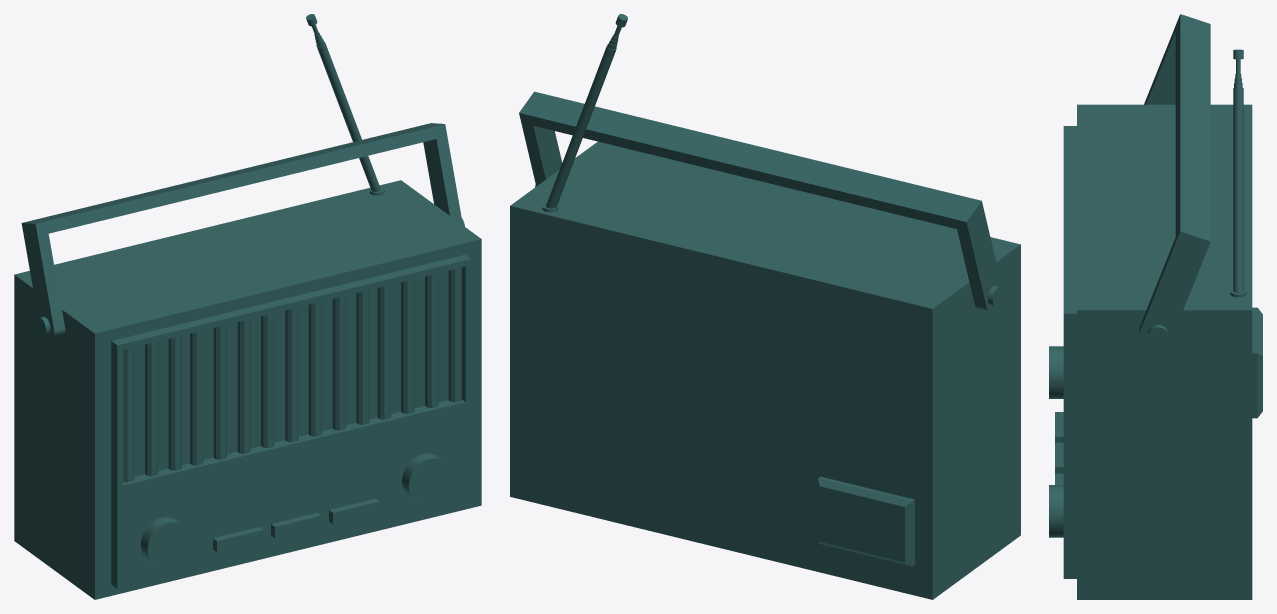
Rendered from radio low.fbx.
The picture shows the model from 3 angles, left to right: view 1: azimuth 30°, elevation 25°; view 2: azimuth 150°, elevation 25°; view 3: azimuth 270°, elevation 25°; orthographic projection. The views are drawn at different scales.
Parts seen in each view (by area): view 1: radio_03_low, radio_02_low, radio_22_low, radio_24_low, radio_23_low, radio_34_low, radio_21_low, radio_05_low, radio_17_low, radio_08_low, radio_11_low, radio_12_low (+14 smaller); view 2: radio_03_low, radio_22_low, radio_27_low, radio_24_low, radio_33_low, radio_23_low; view 3: radio_03_low, radio_22_low, radio_02_low, radio_23_low, radio_33_low, radio_24_low, radio_27_low, radio_21_low, radio_34_low, radio_25_low.
Boxes of the visible parts, x1,y1,x2,y2 form: radio_03_low: (14,180,481,599); radio_02_low: (111,254,471,588); radio_22_low: (21,123,447,236); radio_24_low: (23,234,65,337); radio_23_low: (423,136,462,224); radio_34_low: (402,453,450,503); radio_21_low: (140,517,189,567); radio_05_low: (377,284,390,419); radio_17_low: (168,335,181,470); radio_08_low: (285,307,298,442); radio_11_low: (213,325,226,459); radio_12_low: (190,330,203,465); radio_03_low: (510,141,1020,599); radio_22_low: (519,91,983,231); radio_27_low: (818,476,914,566); radio_24_low: (957,211,1002,311); radio_33_low: (546,14,627,208); radio_23_low: (521,123,562,186); radio_03_low: (1077,104,1252,599); radio_22_low: (1175,14,1210,252); radio_02_low: (1063,126,1076,578); radio_23_low: (1139,238,1205,347); radio_33_low: (1233,49,1243,292); radio_24_low: (1144,26,1175,104); radio_27_low: (1252,307,1262,418); radio_21_low: (1049,346,1063,398); radio_34_low: (1049,485,1063,537); radio_25_low: (1147,325,1168,345).
Size of the model in its own units: 58.08 by 62.14 by 23.6.
